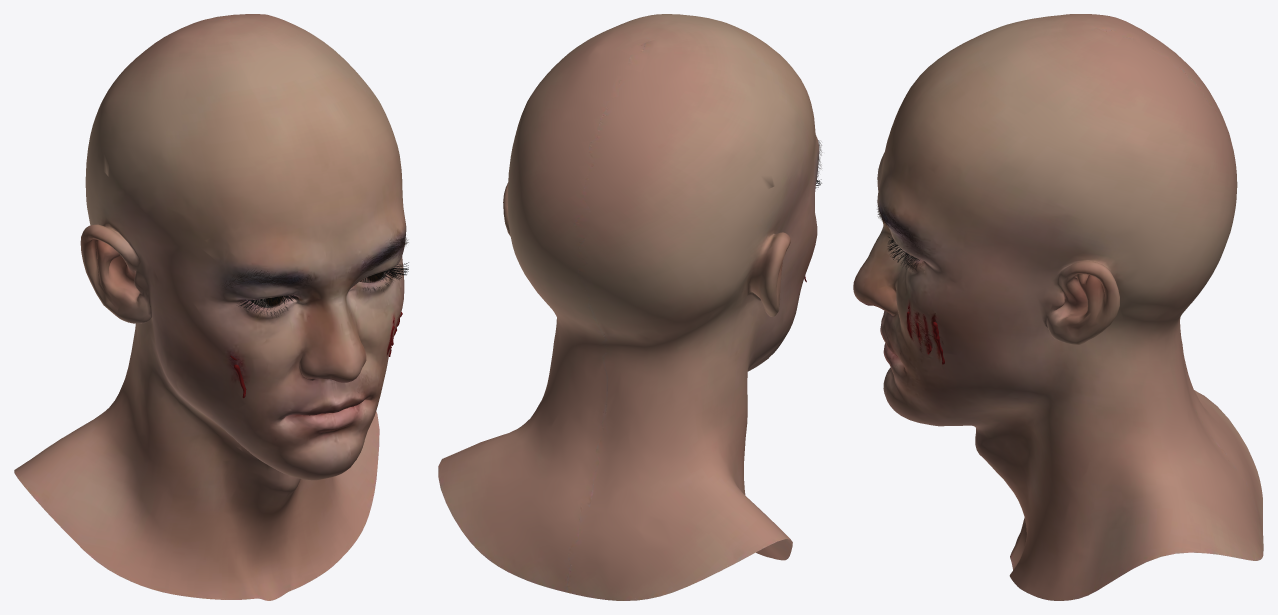
File: 真人头像_划痕男头01_opt.glb
3 views of the same model, side by side, from view 1: azimuth 30°, elevation 25°; view 2: azimuth 150°, elevation 25°; view 3: azimuth 270°, elevation 25° (orthographic). The views are drawn at different scales.
Parts seen in each view (by area): view 1: Material004, Material007, Material009; view 2: Material004; view 3: Material004.
Boxes of the visible parts, box(x1,y1,x2,y2) form: Material004: box(14, 14, 406, 600); Material007: box(238, 262, 408, 312); Material009: box(225, 237, 408, 287); Material004: box(438, 14, 819, 600); Material004: box(853, 14, 1263, 600).
Size of the model in its own units: 0.1988 by 0.3 by 0.2043.
5 materials, 5 textured.
